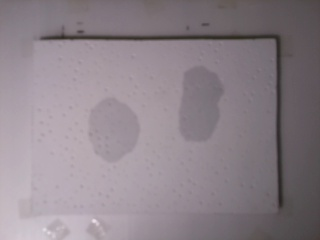Water_detected: (85, 97, 140, 166), (175, 71, 228, 142)
